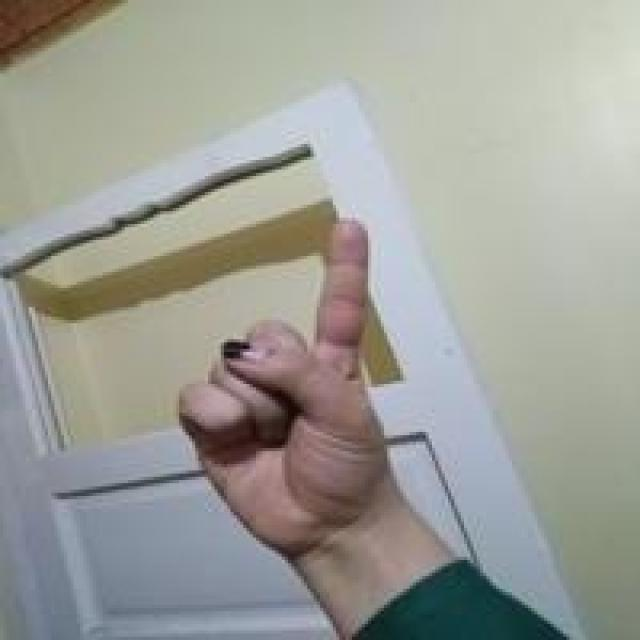Z: (176, 215, 403, 548)
